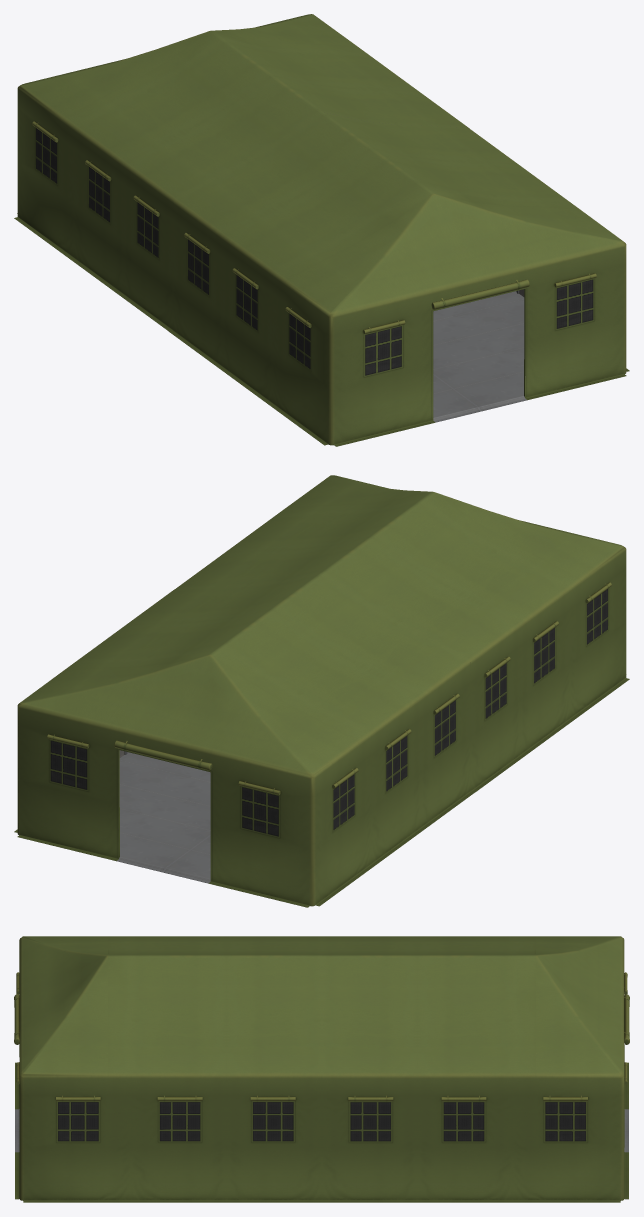
Rendered from Tent_Double.fbx.
3 views of the same model, one above another, from view 1: azimuth 30°, elevation 25°; view 2: azimuth 150°, elevation 25°; view 3: azimuth 270°, elevation 25° (orthographic). The views are drawn at different scales.
Parts seen in each view (by area): view 1: Tent02_2; view 2: Tent02_2; view 3: Tent02_2.
Boxes of the visible parts, x1=… form: Tent02_2: x1=14, y1=14, x2=629, y2=446; Tent02_2: x1=14, y1=475, x2=629, y2=907; Tent02_2: x1=14, y1=936, x2=629, y2=1202.
Size of the model in its own units: 832 by 474 by 1510.
